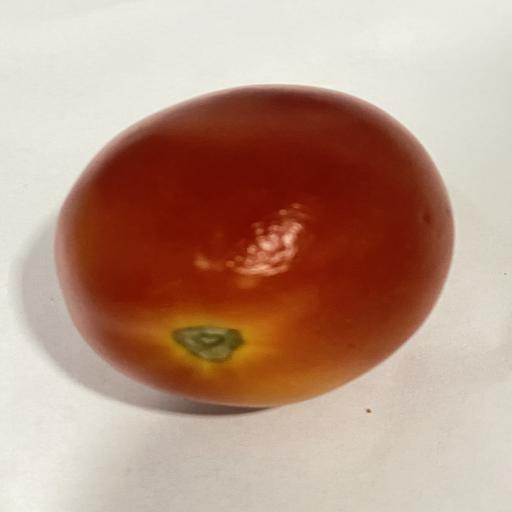overipe: (56, 86, 453, 407)
